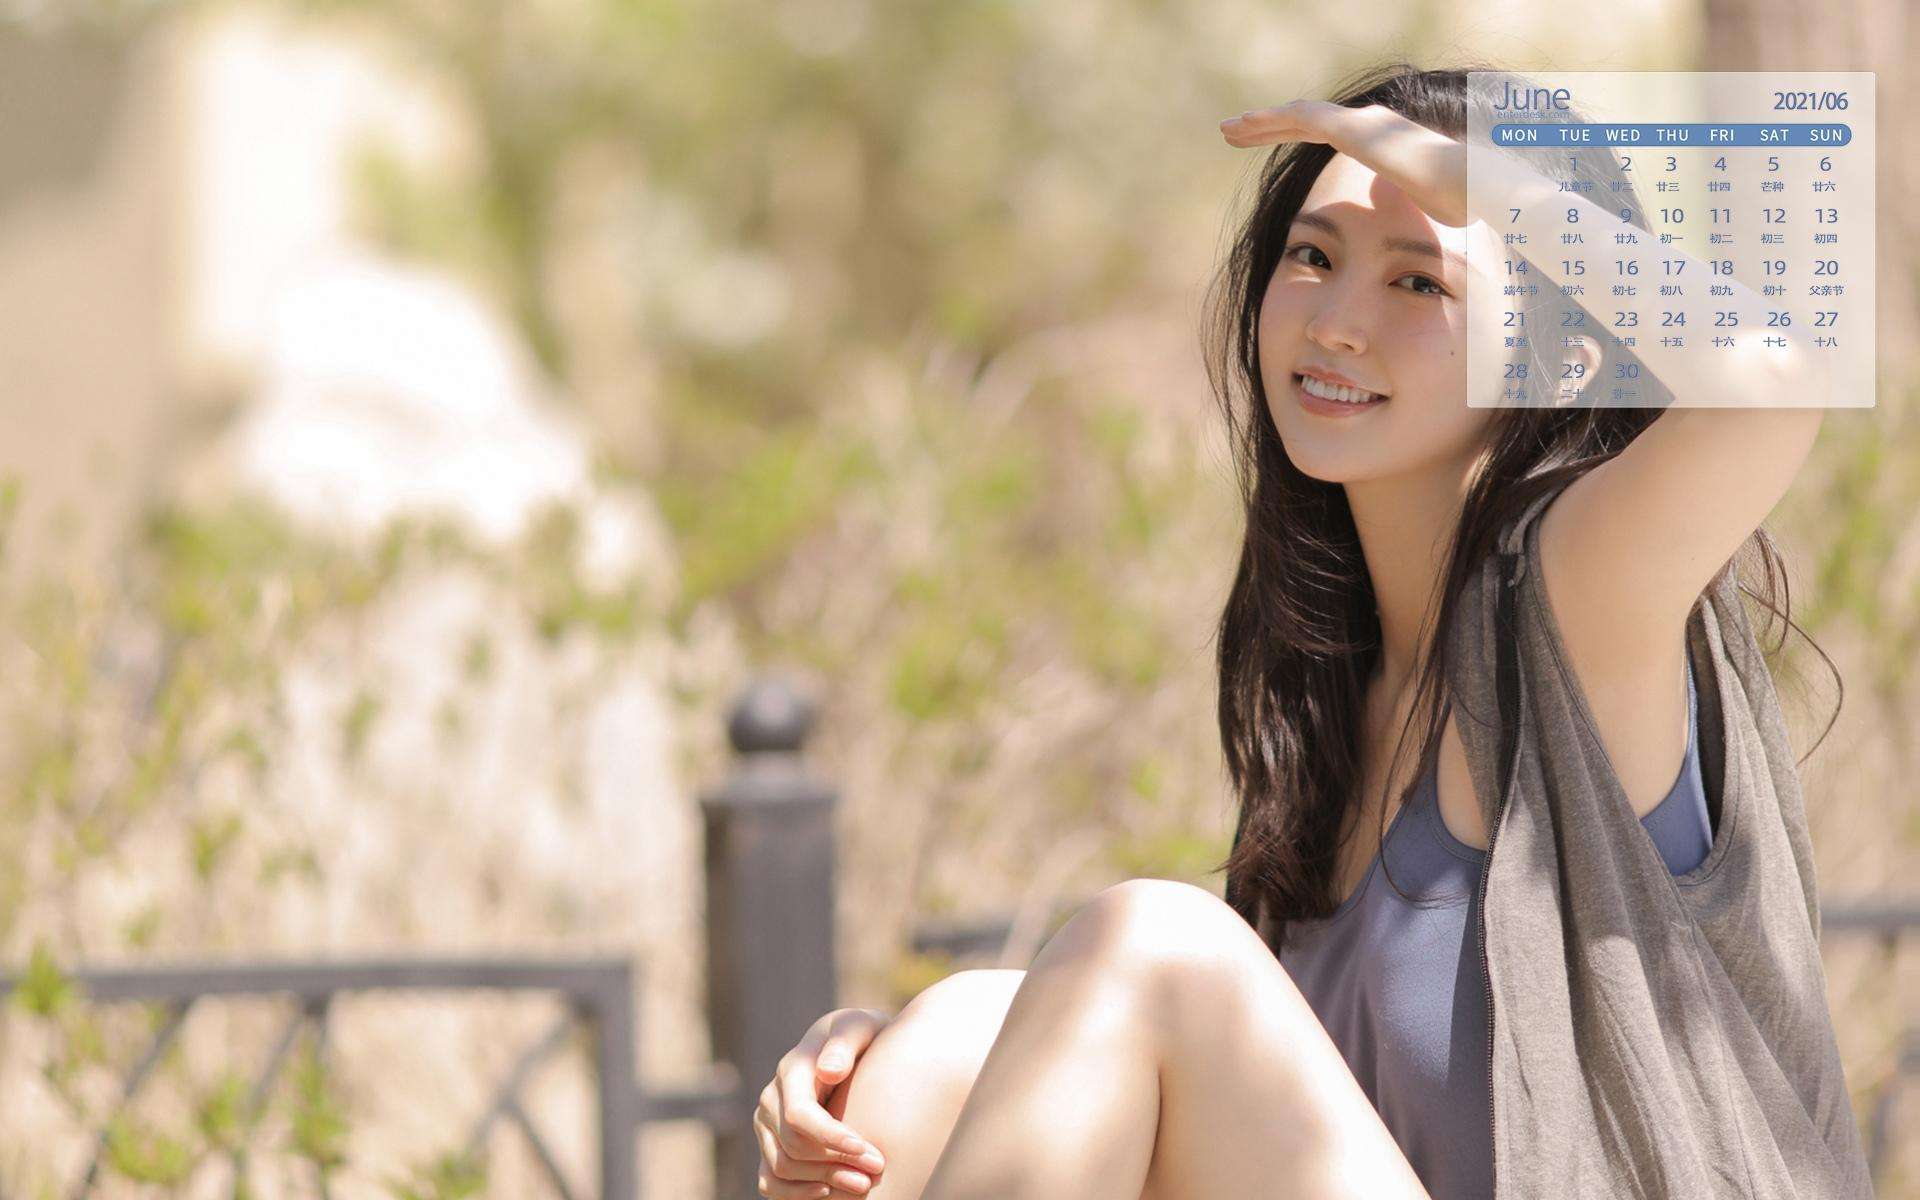person: (1164, 100, 1691, 479)
